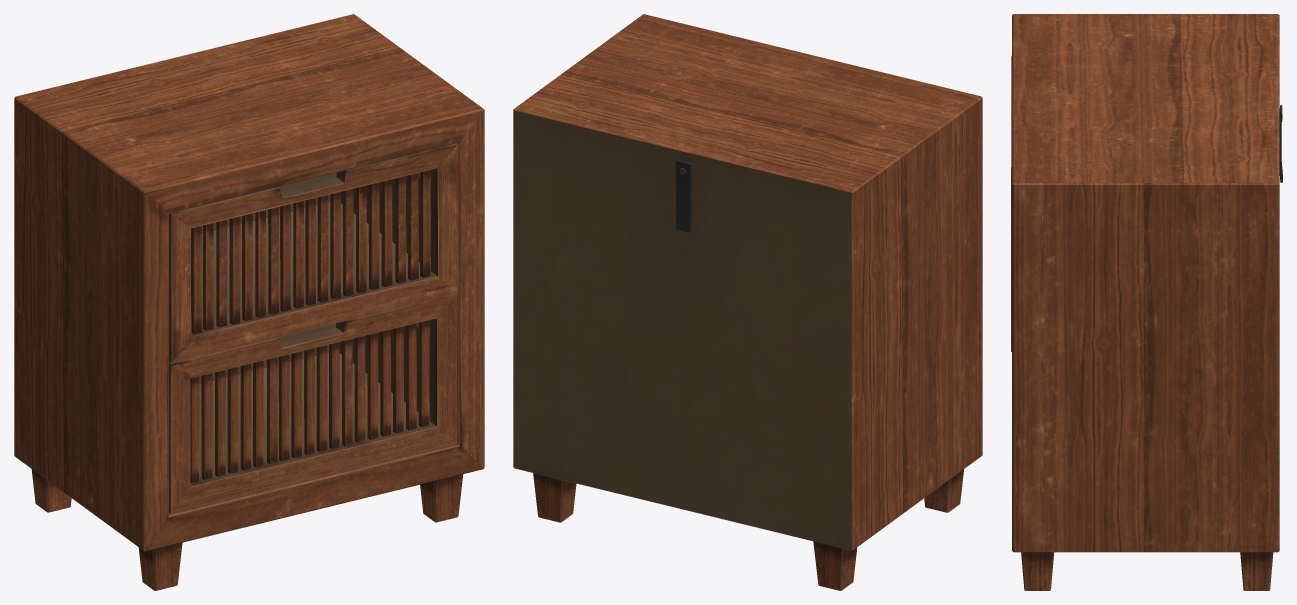
File: cabinet_B074KN35K2.glb
3 renders of one model, left to right at view 1: azimuth 30°, elevation 25°; view 2: azimuth 150°, elevation 25°; view 3: azimuth 270°, elevation 25°, orthographic. The views are drawn at different scales.
Visible parts, largest first — view 1: RootNode; view 2: RootNode; view 3: RootNode.
Boxes of the visible parts, bbox=[...] form: RootNode: bbox=[14, 14, 484, 590]; RootNode: bbox=[513, 14, 982, 590]; RootNode: bbox=[1011, 14, 1282, 590].
Size of the model in its own units: 0.6073 by 0.6948 by 0.4096.
1 material, 1 textured.
